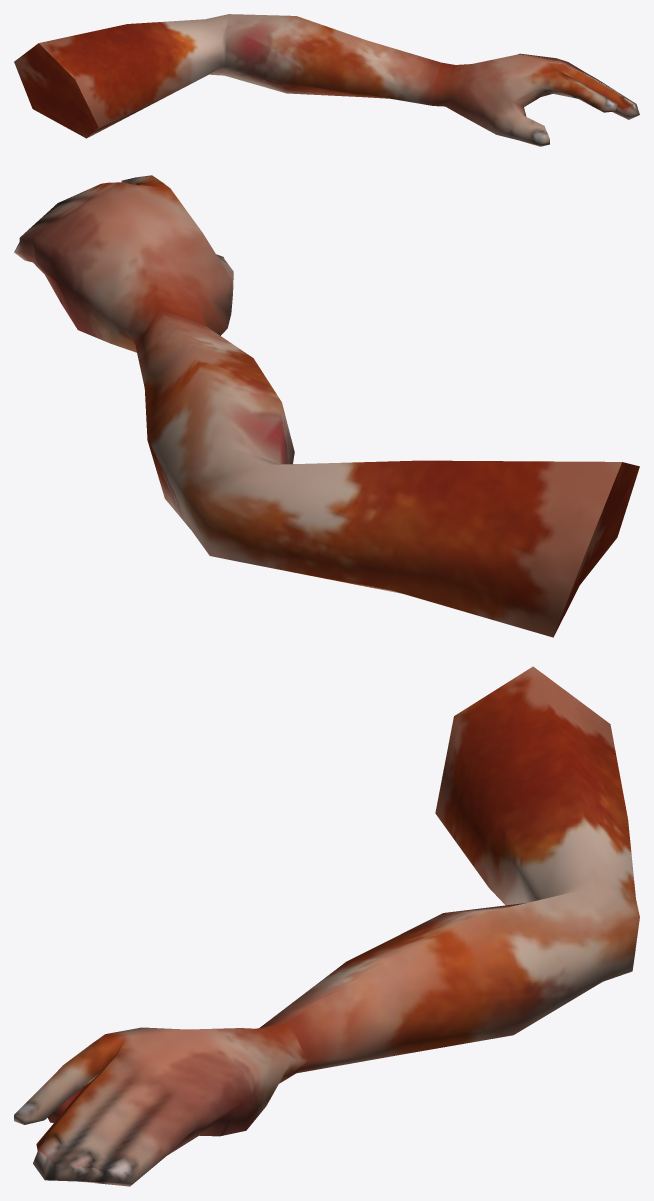
The model's file is PRP_BrokenArm01.FBX.
The picture shows the model from 3 angles, top to bottom: view 1: azimuth 30°, elevation 25°; view 2: azimuth 150°, elevation 25°; view 3: azimuth 270°, elevation 25°; orthographic projection. The views are drawn at different scales.
Visible parts, largest first — view 1: PRP_BrokenArm01; view 2: PRP_BrokenArm01; view 3: PRP_BrokenArm01.
Part boxes in pixels (x1,y1,x2,y2): PRP_BrokenArm01: [14, 14, 639, 146]; PRP_BrokenArm01: [14, 175, 639, 637]; PRP_BrokenArm01: [14, 666, 639, 1186].
Size of the model in its own units: 47.07 by 10.08 by 32.58.
